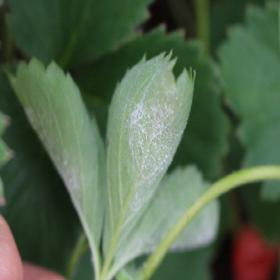Powdery Mildew Leaf: (100, 46, 196, 266), (6, 55, 104, 263), (107, 164, 223, 279)
